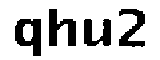2: (116, 7, 148, 49)
h: (47, 6, 77, 50)
q: (12, 17, 42, 60)
u: (82, 16, 112, 50)
